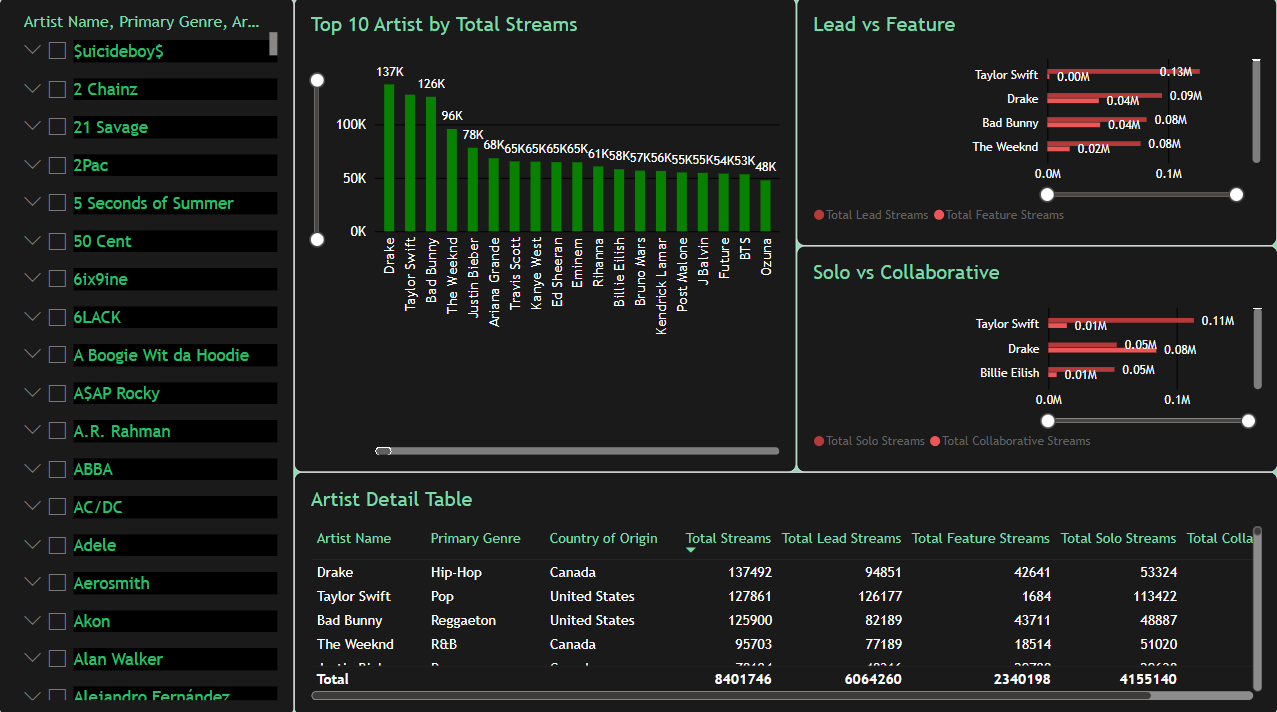

Layout of this report page (visuals, bound fields, positions):
{"tool":"powerbi","page":{"name":"Artist Performance","canvas":[1280,720],"ordinal":1},"visuals":[{"type":"columnChart","title":"Top 10 Artist by Total Streams","fields":{"Category":["DimArtist.Artist Name"],"Y":["FactStreamedSpotify.Total Streams"]},"box":[0,49.5,436.7,424.7],"z":0},{"type":"clusteredBarChart","title":"Lead vs Feature","fields":{"Category":["DimArtist.Artist Name"],"Y":["FactStreamedSpotify.Total Lead Streams","FactStreamedSpotify.Total Feature Streams"]},"box":[436.3,50,646.7,225.8],"z":1000},{"type":"clusteredBarChart","title":"Solo vs Collaborative","fields":{"Category":["DimArtist.Artist Name"],"Y":["FactStreamedSpotify.Total Solo Streams","FactStreamedSpotify.Total Collaborative Streams"]},"box":[436.3,275.8,646.7,198.9],"z":2000},{"type":"tableEx","title":"Artist Detail Table","fields":{"Values":["DimArtist.Artist Name","DimArtist.Primary Genre","DimArtist.Country of Origin","FactStreamedSpotify.Total Streams","FactStreamedSpotify.Total Lead Streams","FactStreamedSpotify.Total Feature Streams","FactStreamedSpotify.Total Solo Streams","FactStreamedSpotify.Total Collaborative Streams"]},"box":[0,474.7,1083,245],"z":3000},{"type":"slicer","fields":{"Values":["DimArtist.Artist Name","DimArtist.Primary Genre","DimArtist. Artist Type","DimArtist.Country of Origin"]},"box":[1082.5,50,197.5,670],"z":4000},{"type":"textbox","box":[100,100,300,300],"z":4001}]}

Visuals, with their boxes in screenshot pixels (x1, y1, x2, y2), scaled from the page's 1280x720 canvas onto the 1277x712 screenshot:
"Top 10 Artist by Total Streams" columnChart: [left=0, top=49, right=436, bottom=469]
"Lead vs Feature" clusteredBarChart: [left=435, top=49, right=1080, bottom=273]
"Solo vs Collaborative" clusteredBarChart: [left=435, top=273, right=1080, bottom=469]
"Artist Detail Table" tableEx: [left=0, top=469, right=1080, bottom=711]
slicer - DimArtist.Artist Name x DimArtist.Primary Genre: [left=1080, top=49, right=1276, bottom=711]
textbox: [left=100, top=99, right=399, bottom=396]
